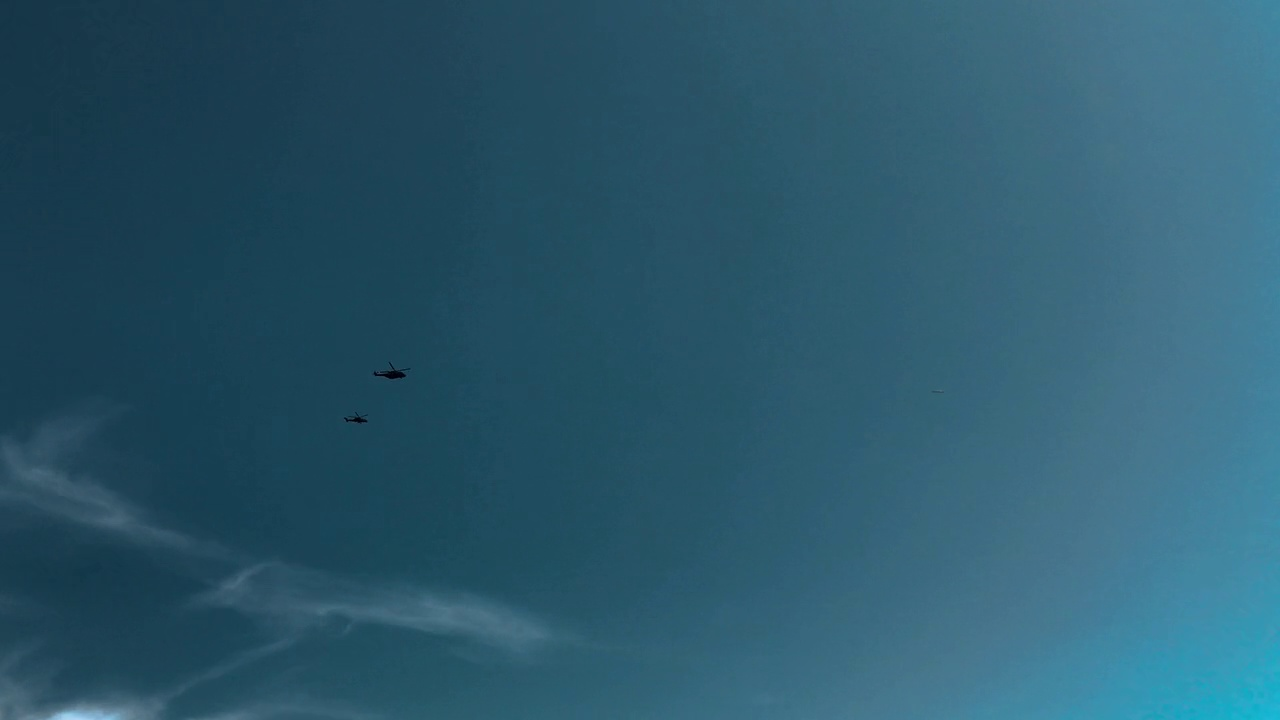heli: (372, 362, 409, 380), (344, 412, 369, 424)
